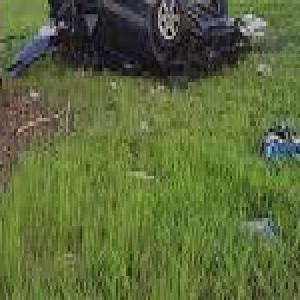serious: (36, 0, 254, 82)
